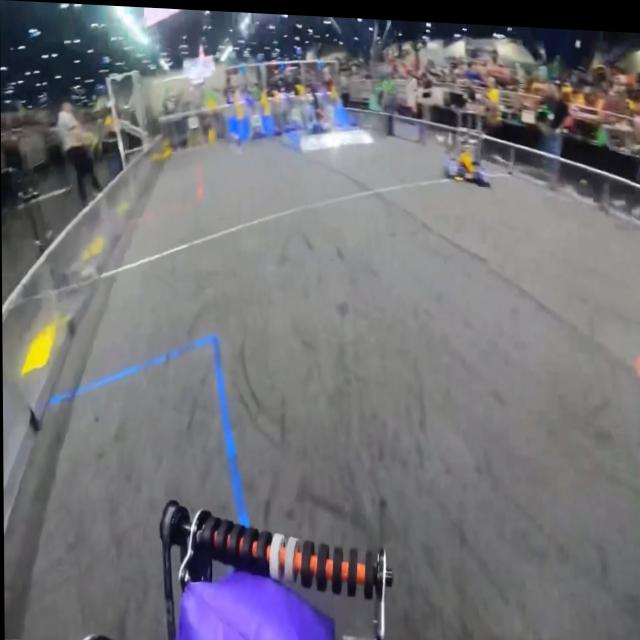robot: (442, 101, 493, 183), (305, 75, 330, 133)
